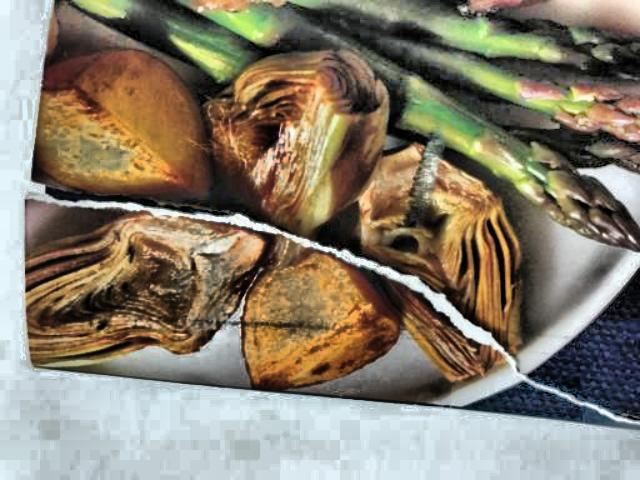Paper: (20, 0, 640, 426)
